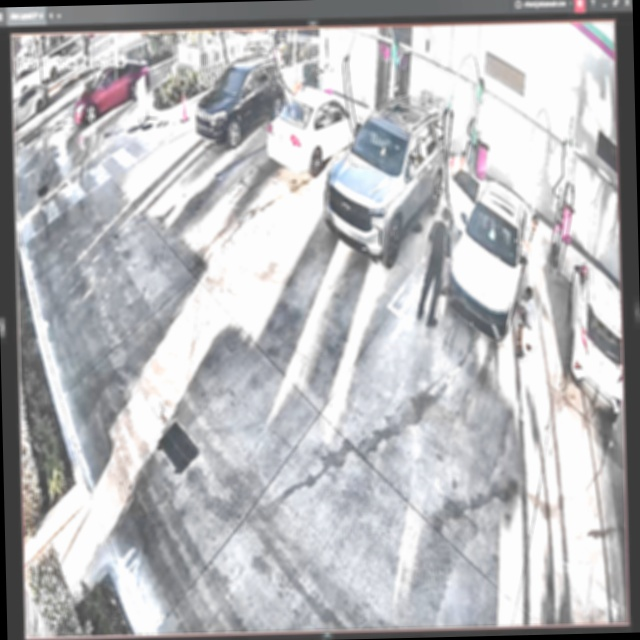Car: (322, 96, 451, 268), (447, 174, 534, 337), (194, 53, 287, 150), (267, 87, 364, 179)
